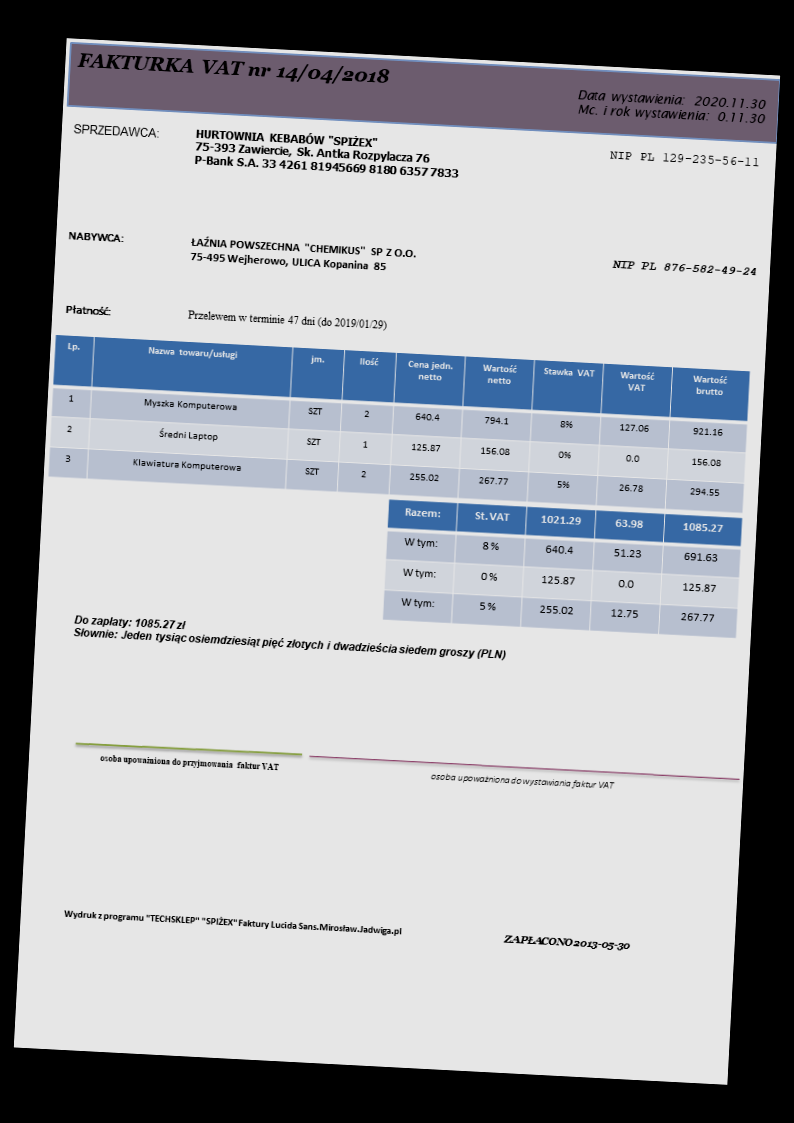Table: (45, 333, 752, 513), (380, 498, 743, 639)
TextBox: (70, 612, 509, 665), (192, 127, 461, 183), (74, 48, 394, 91), (60, 906, 405, 939), (186, 235, 419, 276), (574, 86, 771, 127), (185, 307, 390, 333), (94, 751, 282, 775), (428, 769, 615, 791), (606, 148, 761, 171), (610, 256, 758, 280), (500, 932, 633, 955), (71, 120, 161, 140), (64, 228, 125, 245), (61, 302, 114, 319)
